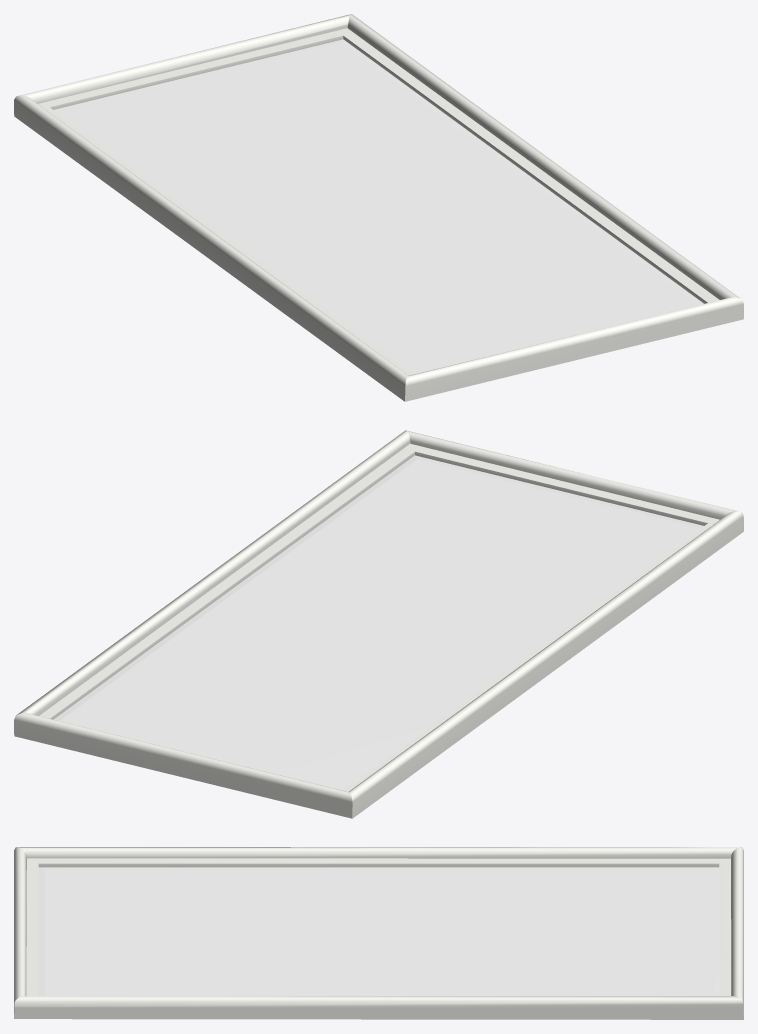
3 views of the same model, one above another, from view 1: azimuth 30°, elevation 25°; view 2: azimuth 150°, elevation 25°; view 3: azimuth 270°, elevation 25° (orthographic). The views are drawn at different scales.
Parts seen in each view (by area): view 1: ASY_ART_50610094_S01_NV01; view 2: ASY_ART_50610094_S01_NV01; view 3: ASY_ART_50610094_S01_NV01.
Boxes of the visible parts, bbox=[...] form: ASY_ART_50610094_S01_NV01: bbox=[14, 14, 743, 401]; ASY_ART_50610094_S01_NV01: bbox=[14, 430, 743, 818]; ASY_ART_50610094_S01_NV01: bbox=[14, 847, 743, 1019].
Bounding box in the file's own units: 0.6002 × 0.038 × 1.2.
Materials: 2 (2 with a texture image).
